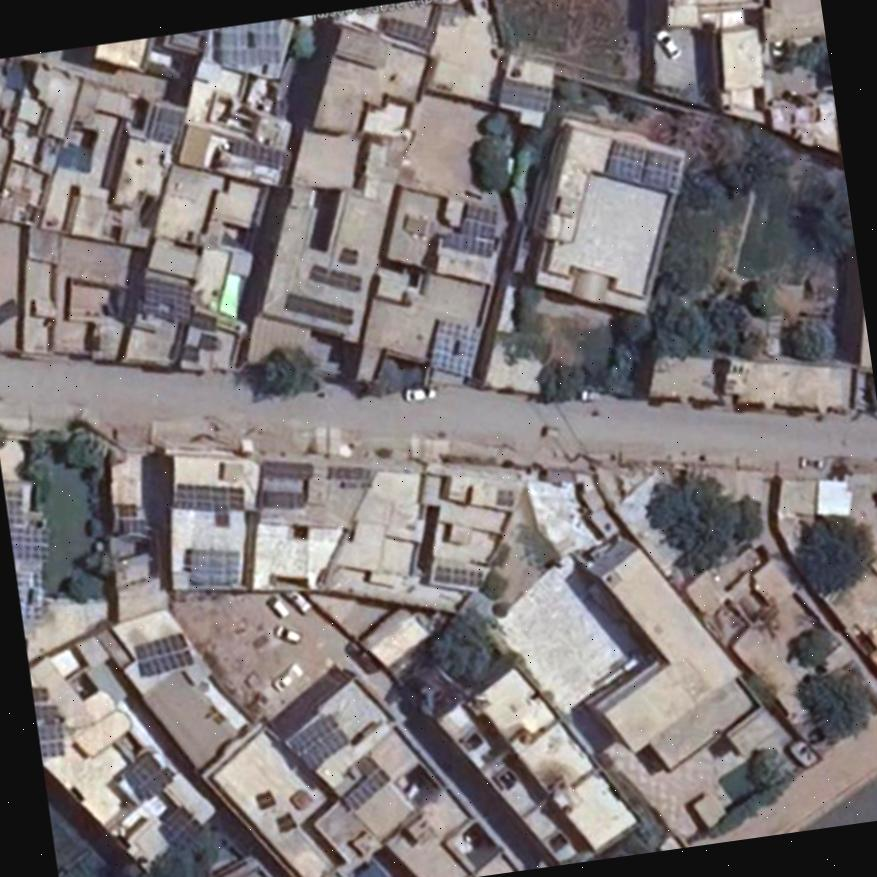Solarpanel: (605, 142, 677, 191), (442, 201, 495, 255), (287, 717, 346, 765), (427, 320, 478, 374), (217, 20, 279, 64), (138, 278, 192, 322), (126, 753, 171, 802), (134, 635, 191, 673), (284, 295, 350, 326), (342, 769, 390, 810), (172, 484, 242, 509), (161, 808, 202, 847), (501, 78, 549, 110), (308, 265, 357, 291), (382, 19, 427, 41), (36, 724, 63, 756), (0, 300, 20, 324), (336, 249, 356, 263)
